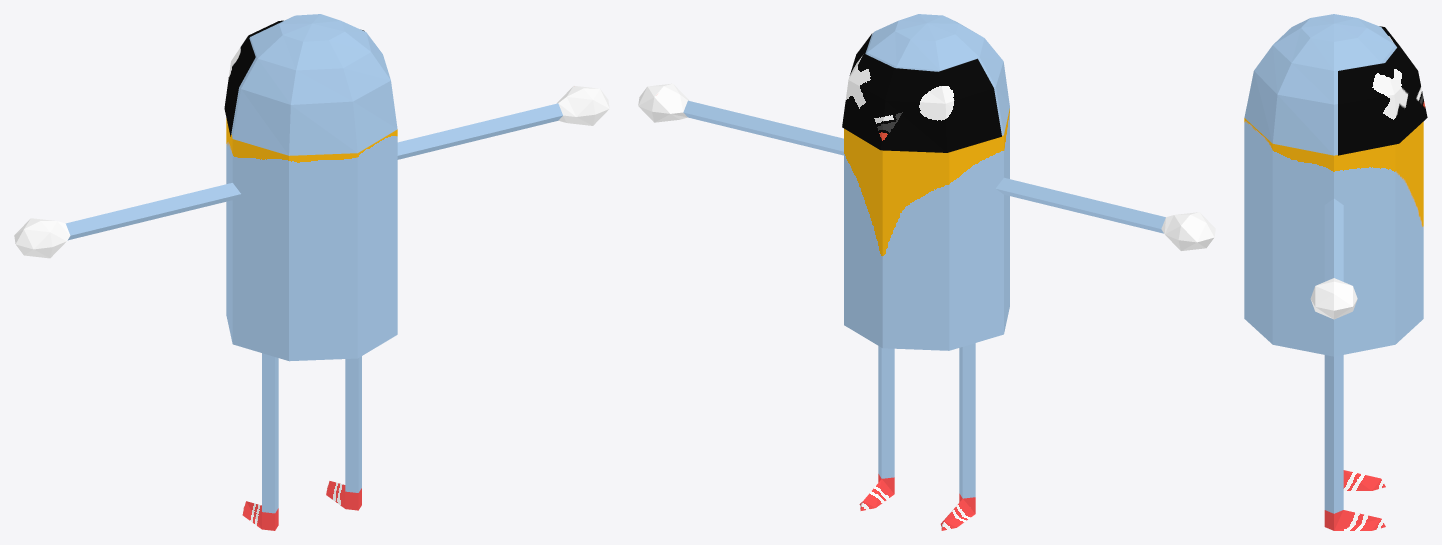
File: junk.glb
3 views of the same model, side by side, from view 1: azimuth 30°, elevation 25°; view 2: azimuth 150°, elevation 25°; view 3: azimuth 270°, elevation 25° (orthographic). The views are drawn at different scales.
Parts seen in each view (by area): view 1: body, face; view 2: body, face; view 3: body, face.
Boxes of the visible parts, x1,y1,x2,y2 form: body: (14,14,609,530); face: (224,20,364,136); body: (638,14,1215,530); face: (842,33,1001,152); body: (1244,14,1423,530); face: (1338,26,1427,155).
Size of the model in its own units: 1.77 by 1.41 by 0.485.
2 materials, 2 textured.
